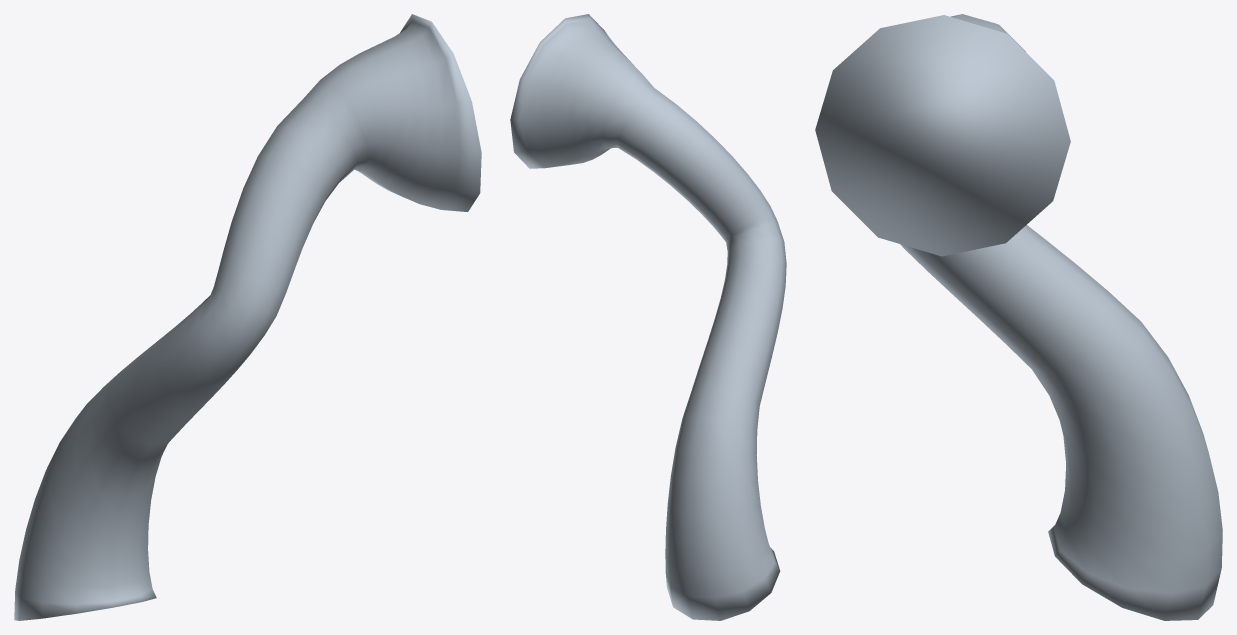
The model's file is posterior-cruciate-ligament-r.glb.
The picture shows the model from 3 angles, left to right: view 1: azimuth 30°, elevation 25°; view 2: azimuth 150°, elevation 25°; view 3: azimuth 270°, elevation 25°; orthographic projection. The views are drawn at different scales.
Parts seen in each view (by area): view 1: Posterior cruciate ligament.r; view 2: Posterior cruciate ligament.r; view 3: Posterior cruciate ligament.r.
Boxes of the visible parts, x1,y1,x2,y2 form: Posterior cruciate ligament.r: [14, 14, 481, 620]; Posterior cruciate ligament.r: [510, 14, 786, 620]; Posterior cruciate ligament.r: [815, 14, 1222, 620].
Size of the model in its own units: 0.0233 by 0.0379 by 0.0186.
